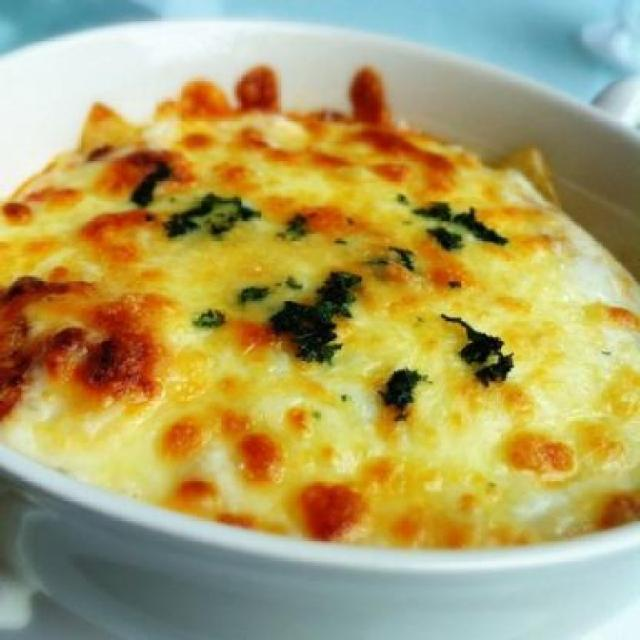Lasagna: (15, 102, 638, 550)
